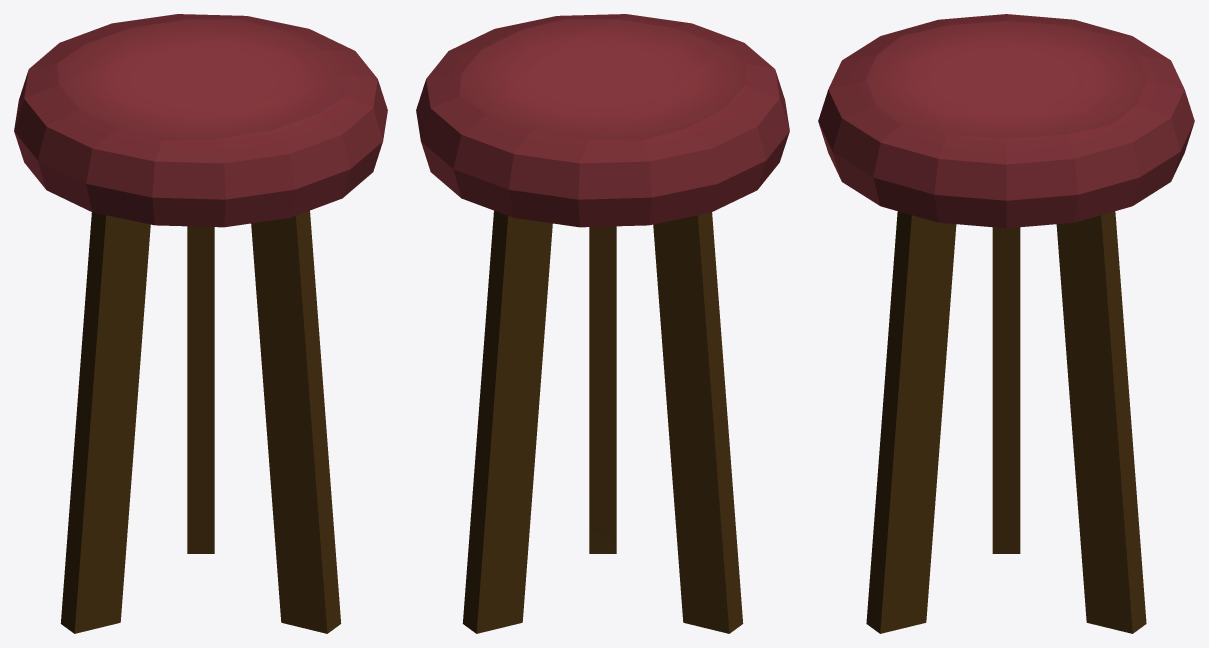
Rendered from BarStool.fbx.
3 views of the same model, side by side, from view 1: azimuth 30°, elevation 25°; view 2: azimuth 150°, elevation 25°; view 3: azimuth 270°, elevation 25° (orthographic).
Visible parts, largest first — view 1: Cylinder; view 2: Cylinder; view 3: Cylinder.
Part boxes in pixels (x1,y1,x2,y2): Cylinder: (14, 14, 387, 633); Cylinder: (416, 14, 789, 633); Cylinder: (818, 14, 1194, 633).
Bounding box in the file's own units: 51.61 × 78.26 × 51.61.
